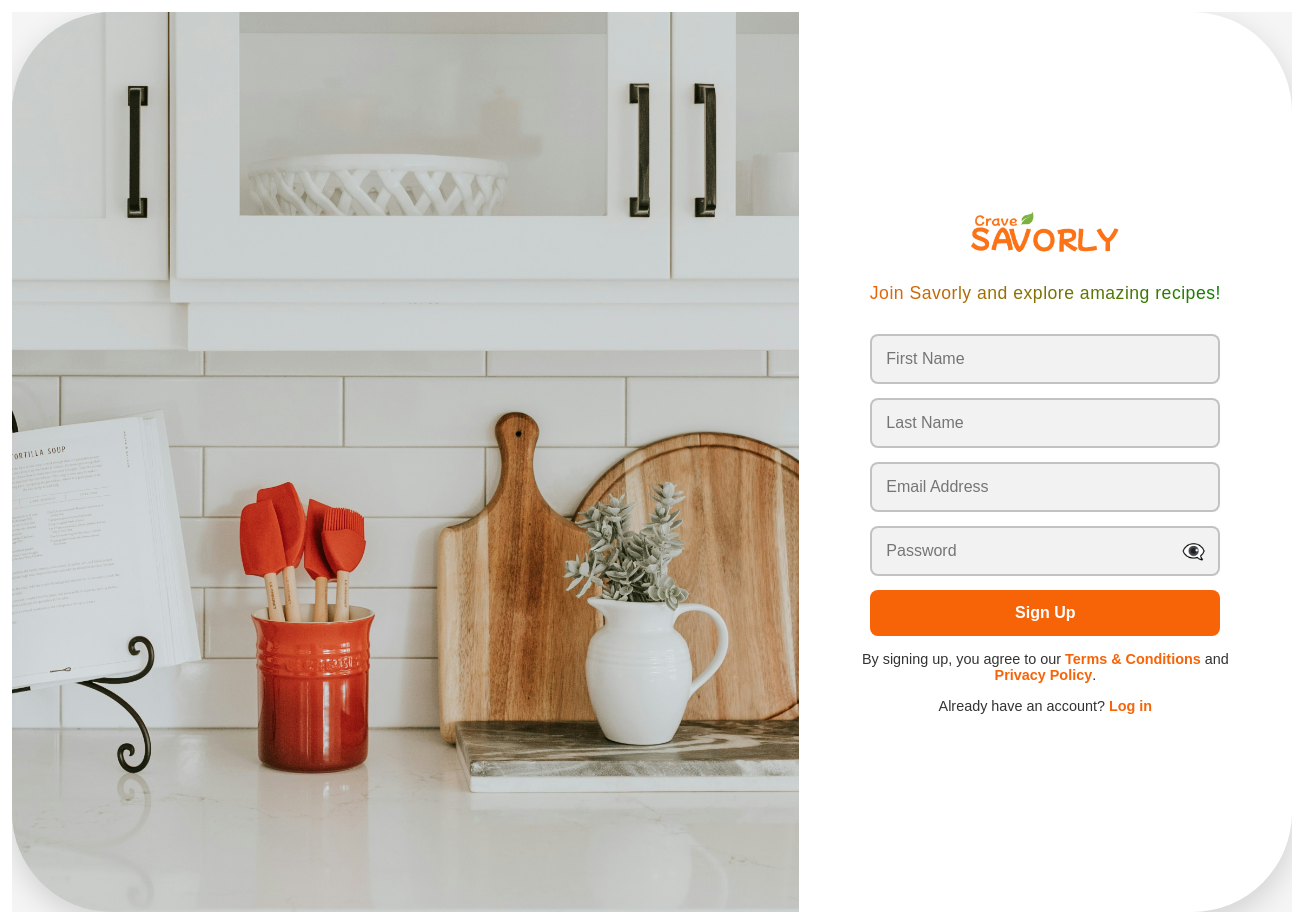
Test: Register Component › shows a success message on successful registration
Type "John" into the field with placeholder "First Name" at (1045,359), box [870,334,1220,384]
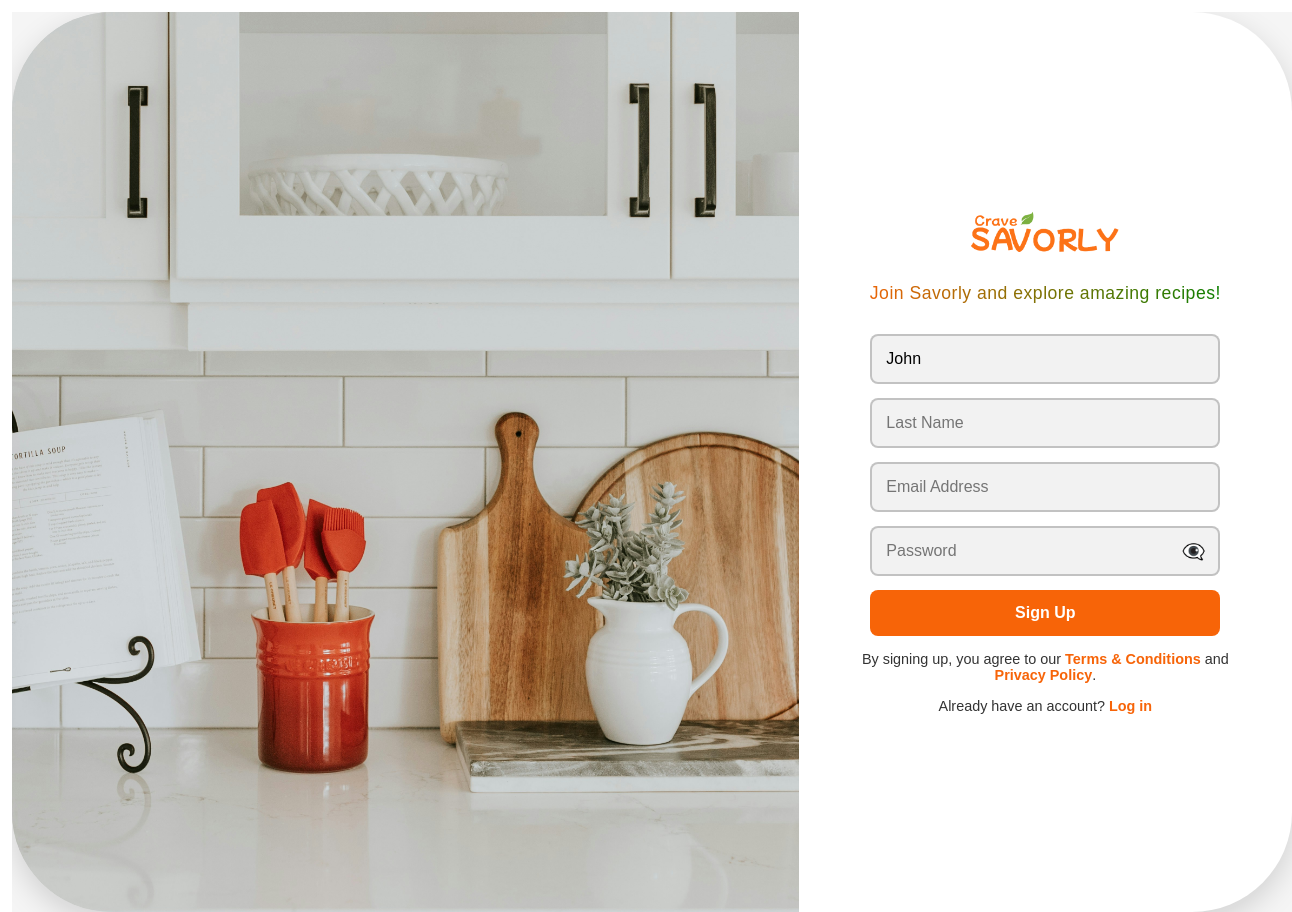
Type "Doe" into the field with placeholder "Last Name" at (1045,423), box [870,398,1220,448]
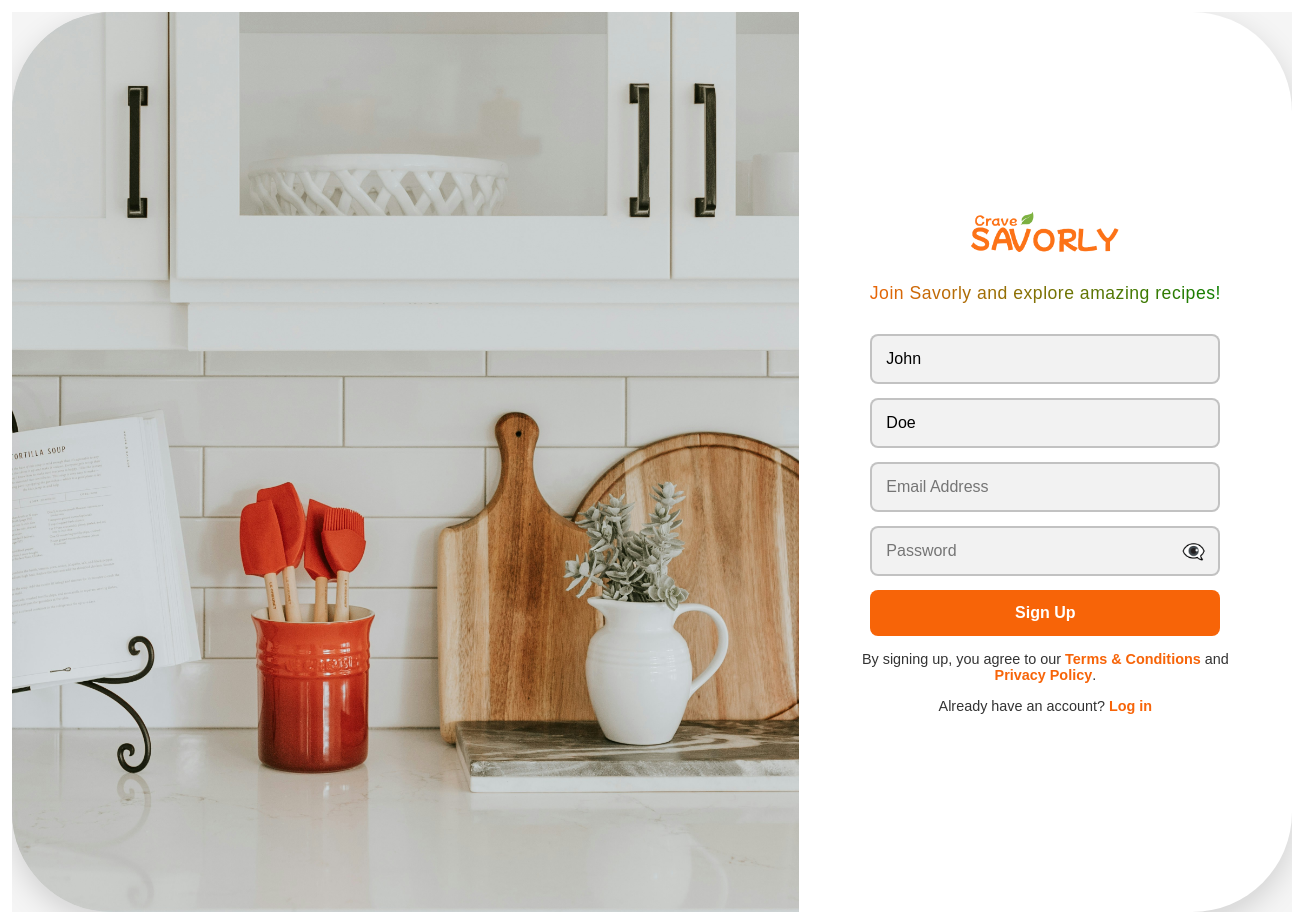
Type "john.doe@example.com" into the field with placeholder "Email Address" at (1045,487), box [870,462,1220,512]
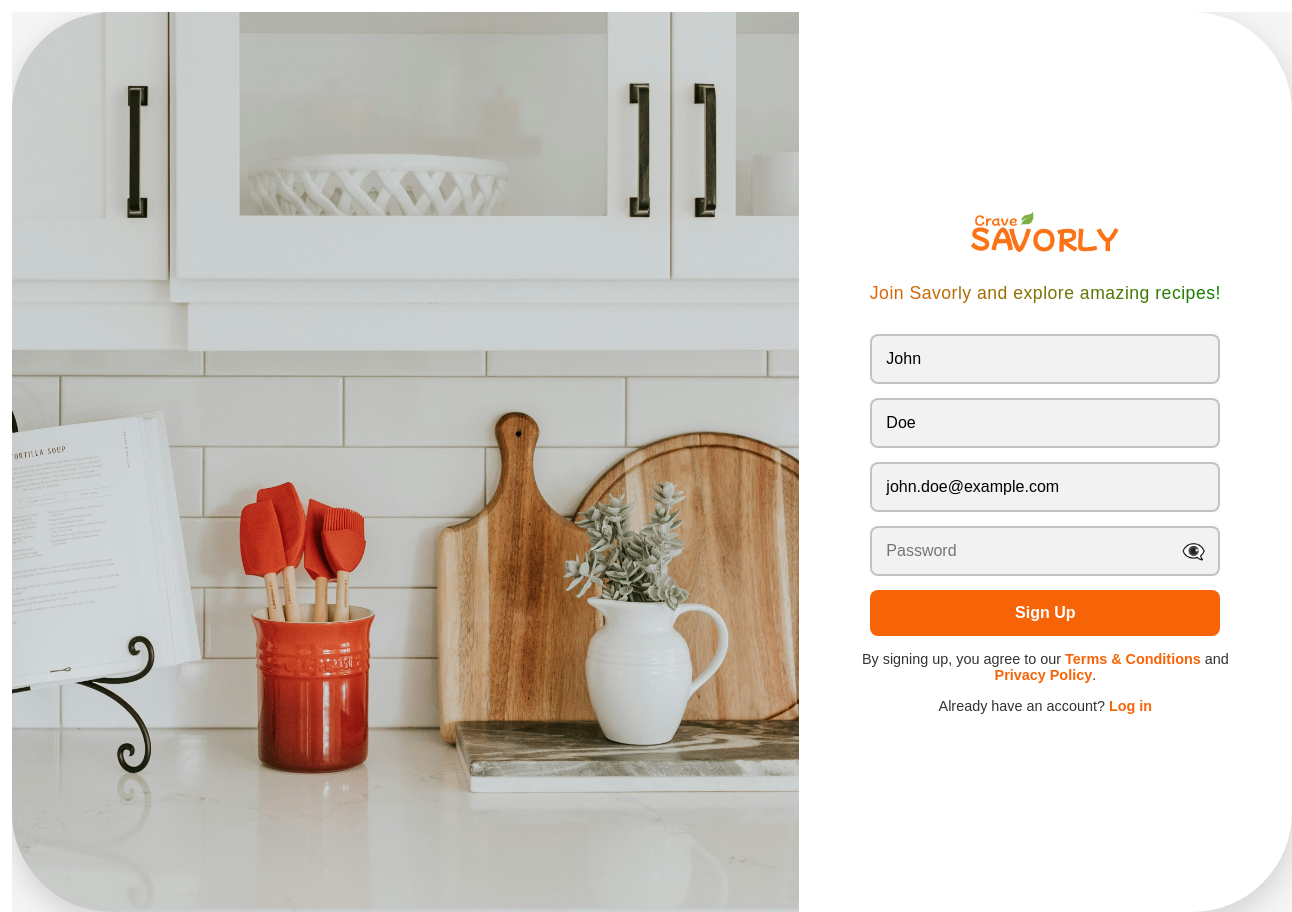
Type "Password123!" into the password field with placeholder "Password" at (1045,551), box [870,526,1220,576]
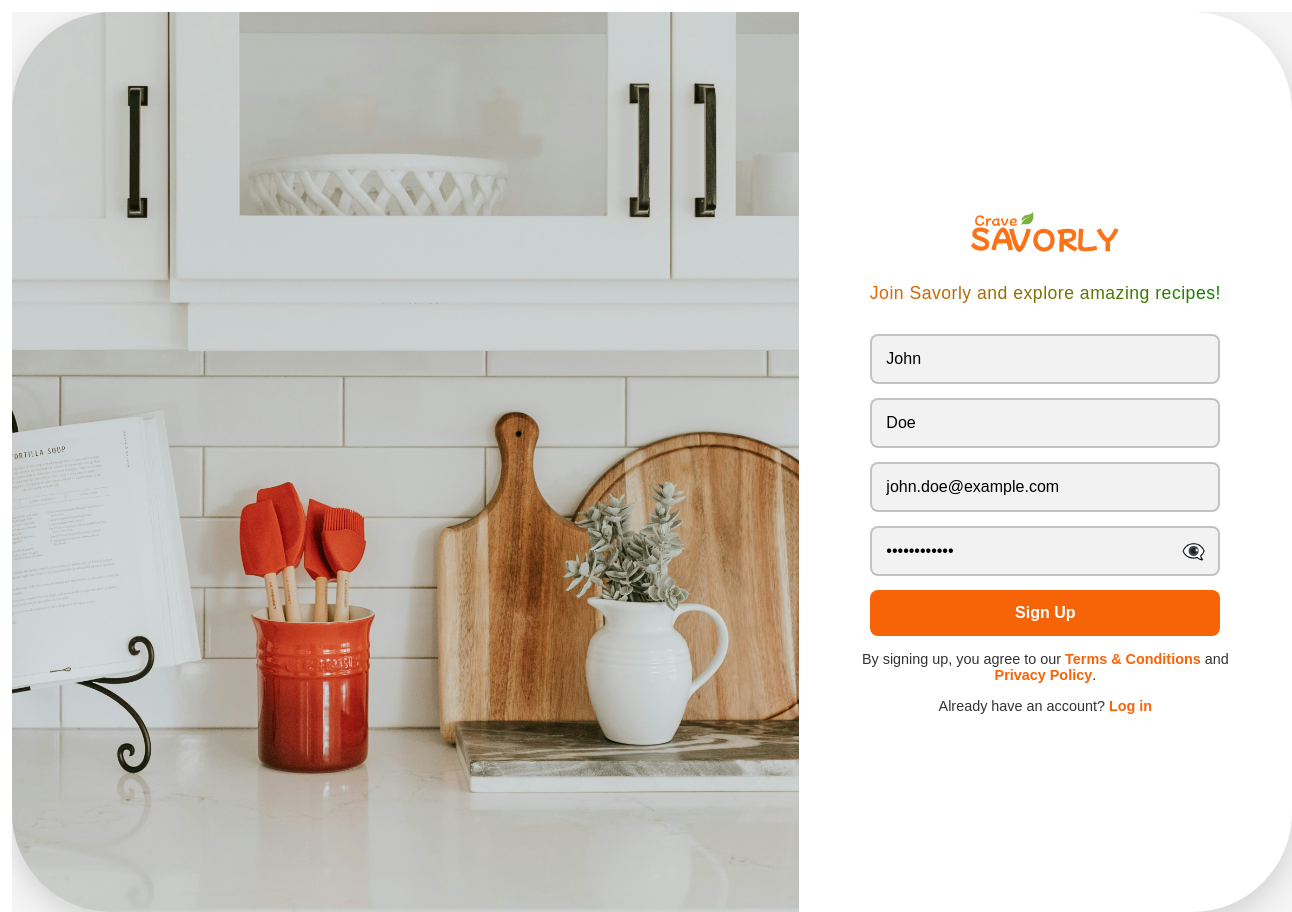
Click the button "Sign Up" at (1045,613), box [870,590,1220,636]
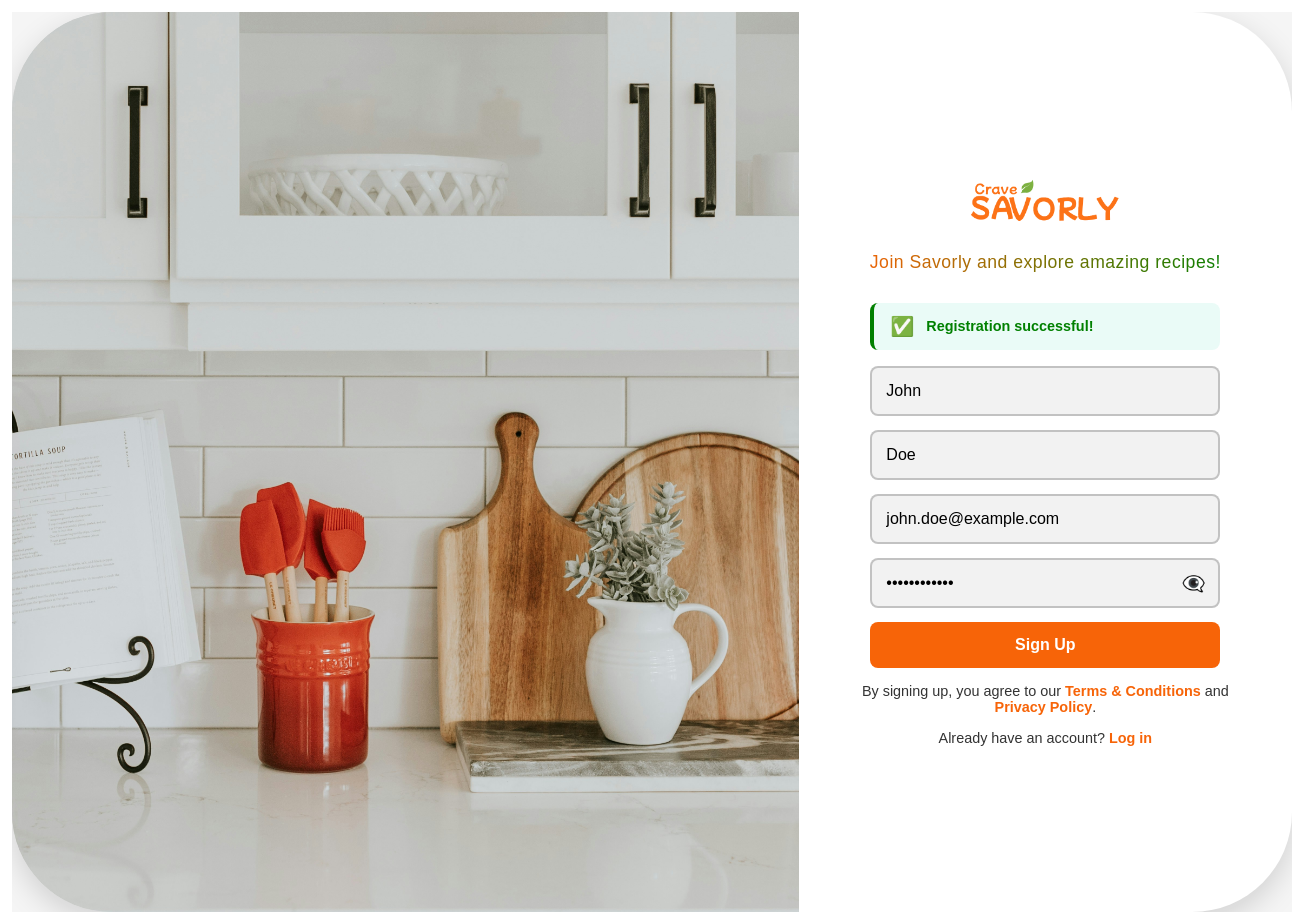
expect the text "✅ Registration successful!" is shown: met, box [870,303,1220,350]
